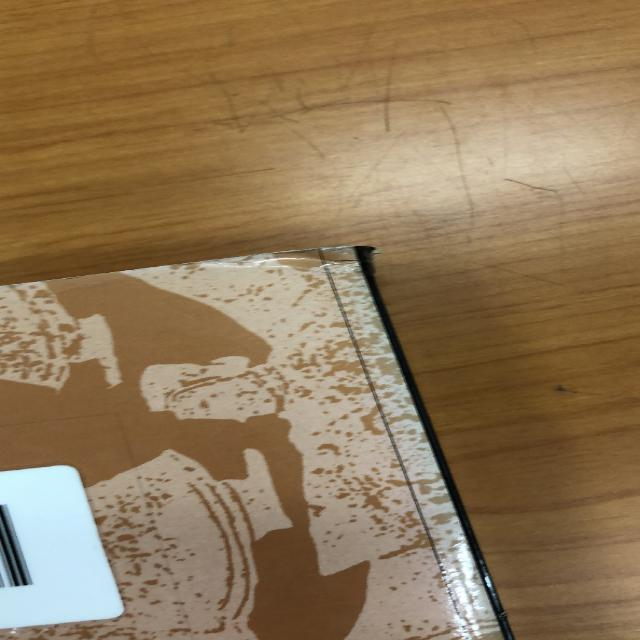Ripped: (270, 238, 405, 278)
Wornout: (41, 269, 116, 287), (491, 602, 522, 625)
